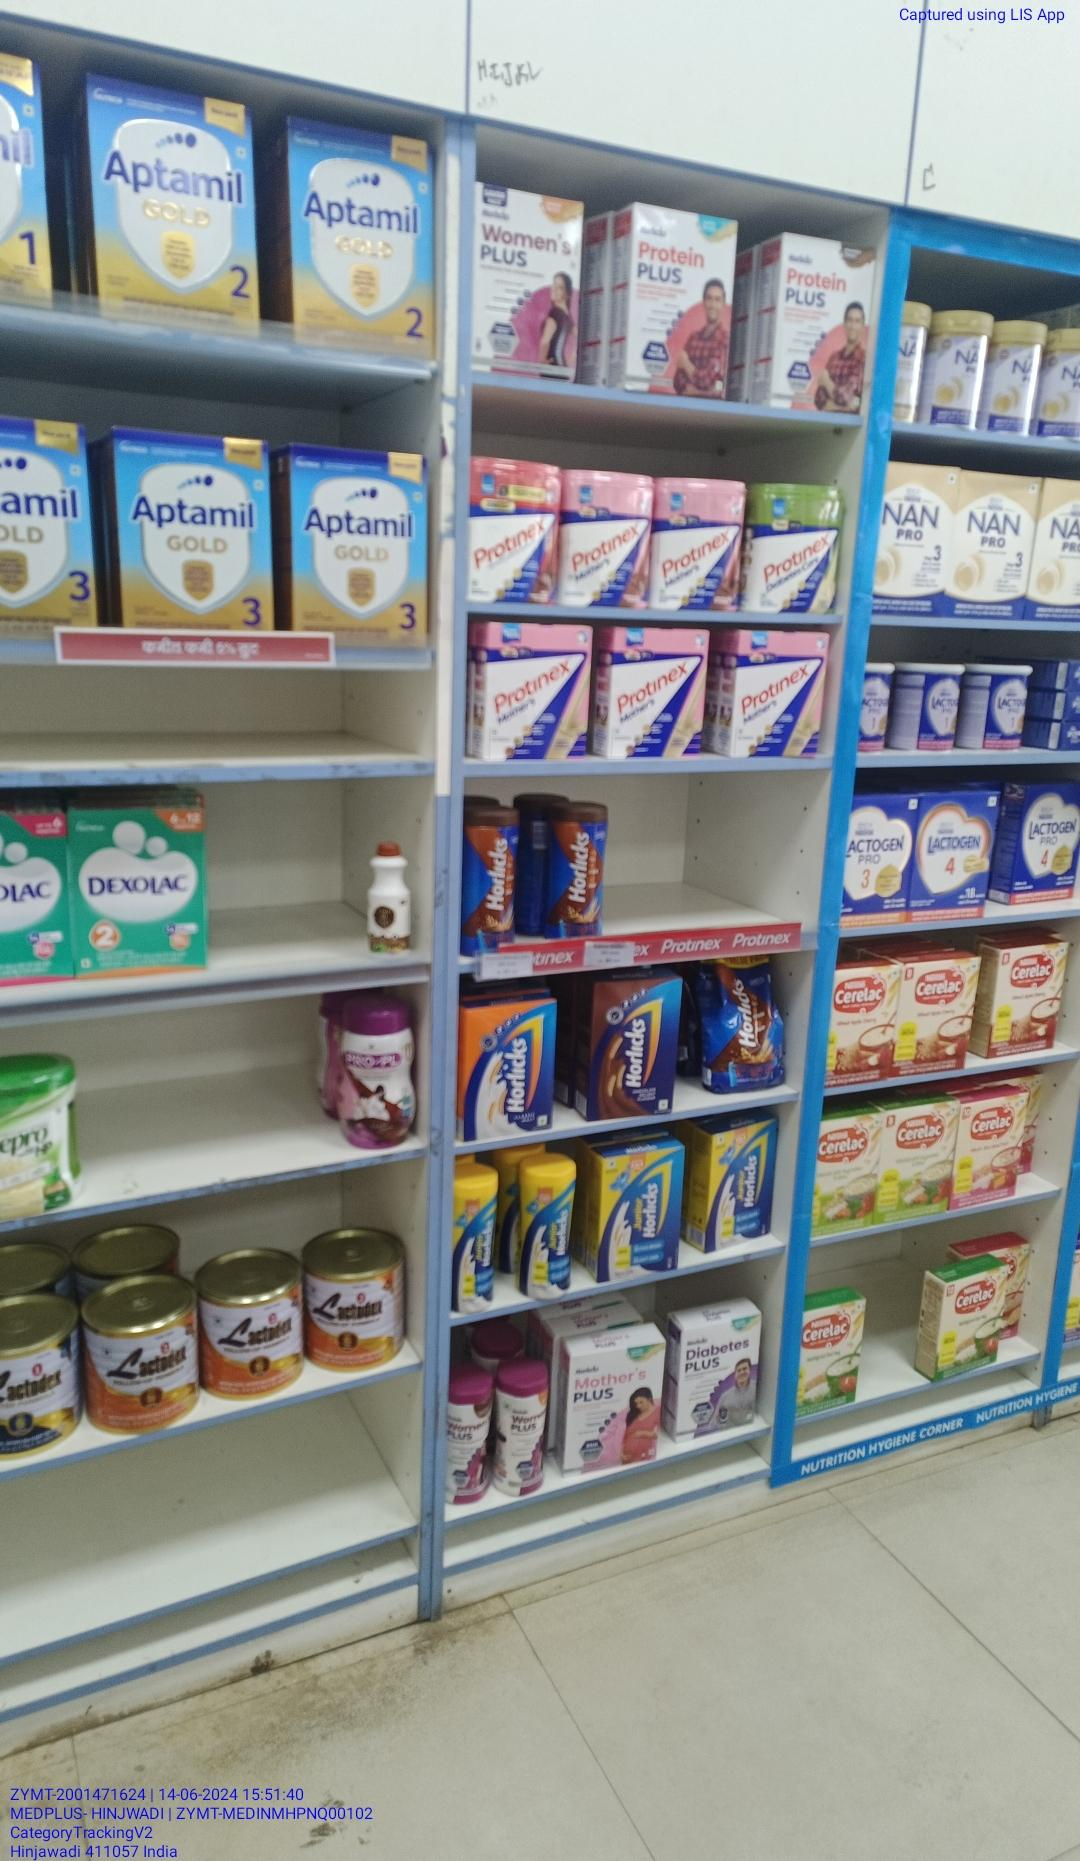HORLICK_CHOCOLATE_200_G_JAR: (548, 801, 607, 939), (463, 807, 518, 948)
HORLICK_CHOCOLATE_500_G_PACK: (591, 981, 679, 1116)
HORLICK_CLASSIC_MALT_500_G_PACK: (460, 1000, 559, 1136)
PROTINEX_VANILLA_400_G_JAR: (748, 481, 841, 610)
